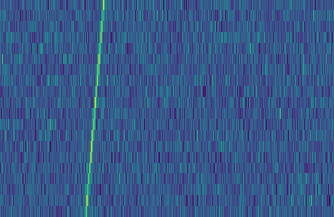signal: (79, 0, 106, 217)
